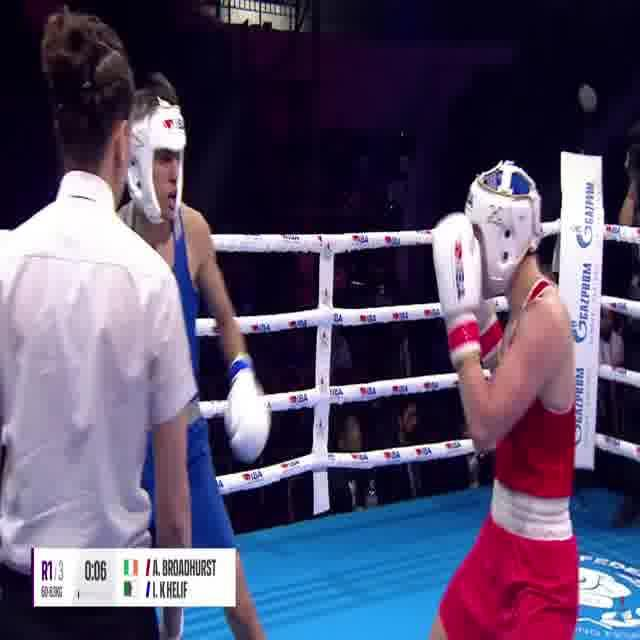blue-player: (99, 67, 275, 640)
red-player: (424, 151, 583, 640)
referee: (0, 6, 200, 640)
